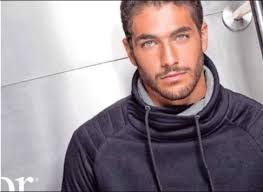middle_eastern_male: (125, 3, 215, 102)
